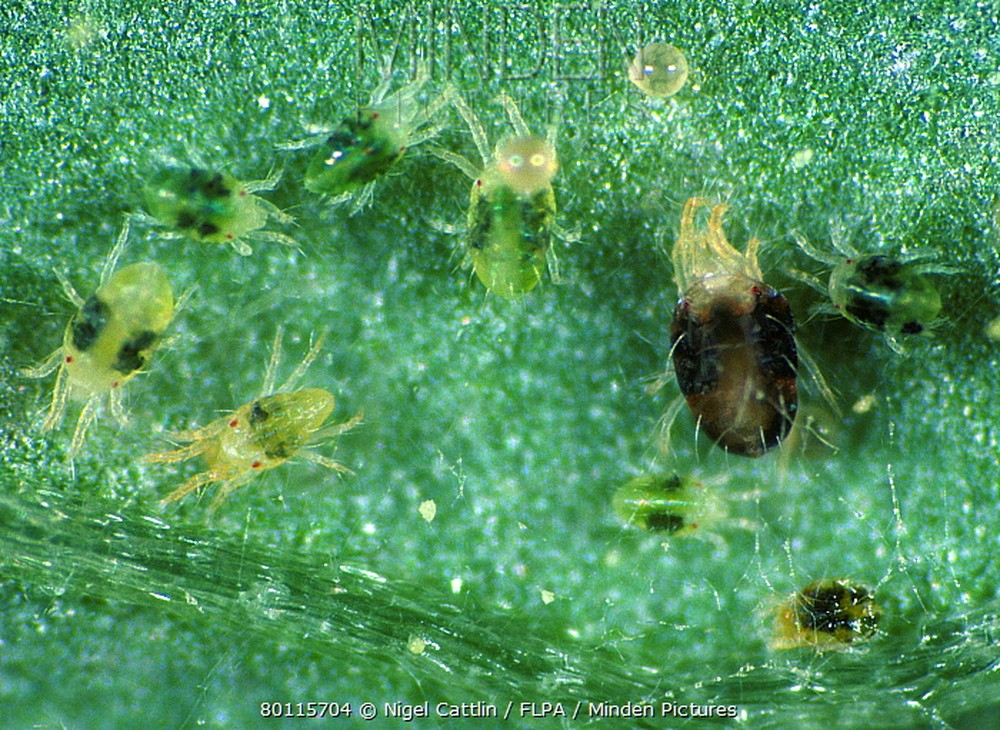Aracnido Rojo: (639, 197, 844, 470), (152, 324, 376, 519), (19, 234, 185, 442), (438, 90, 586, 300), (277, 57, 441, 219), (595, 439, 776, 571), (793, 217, 963, 350), (128, 151, 305, 268), (759, 550, 903, 667)
